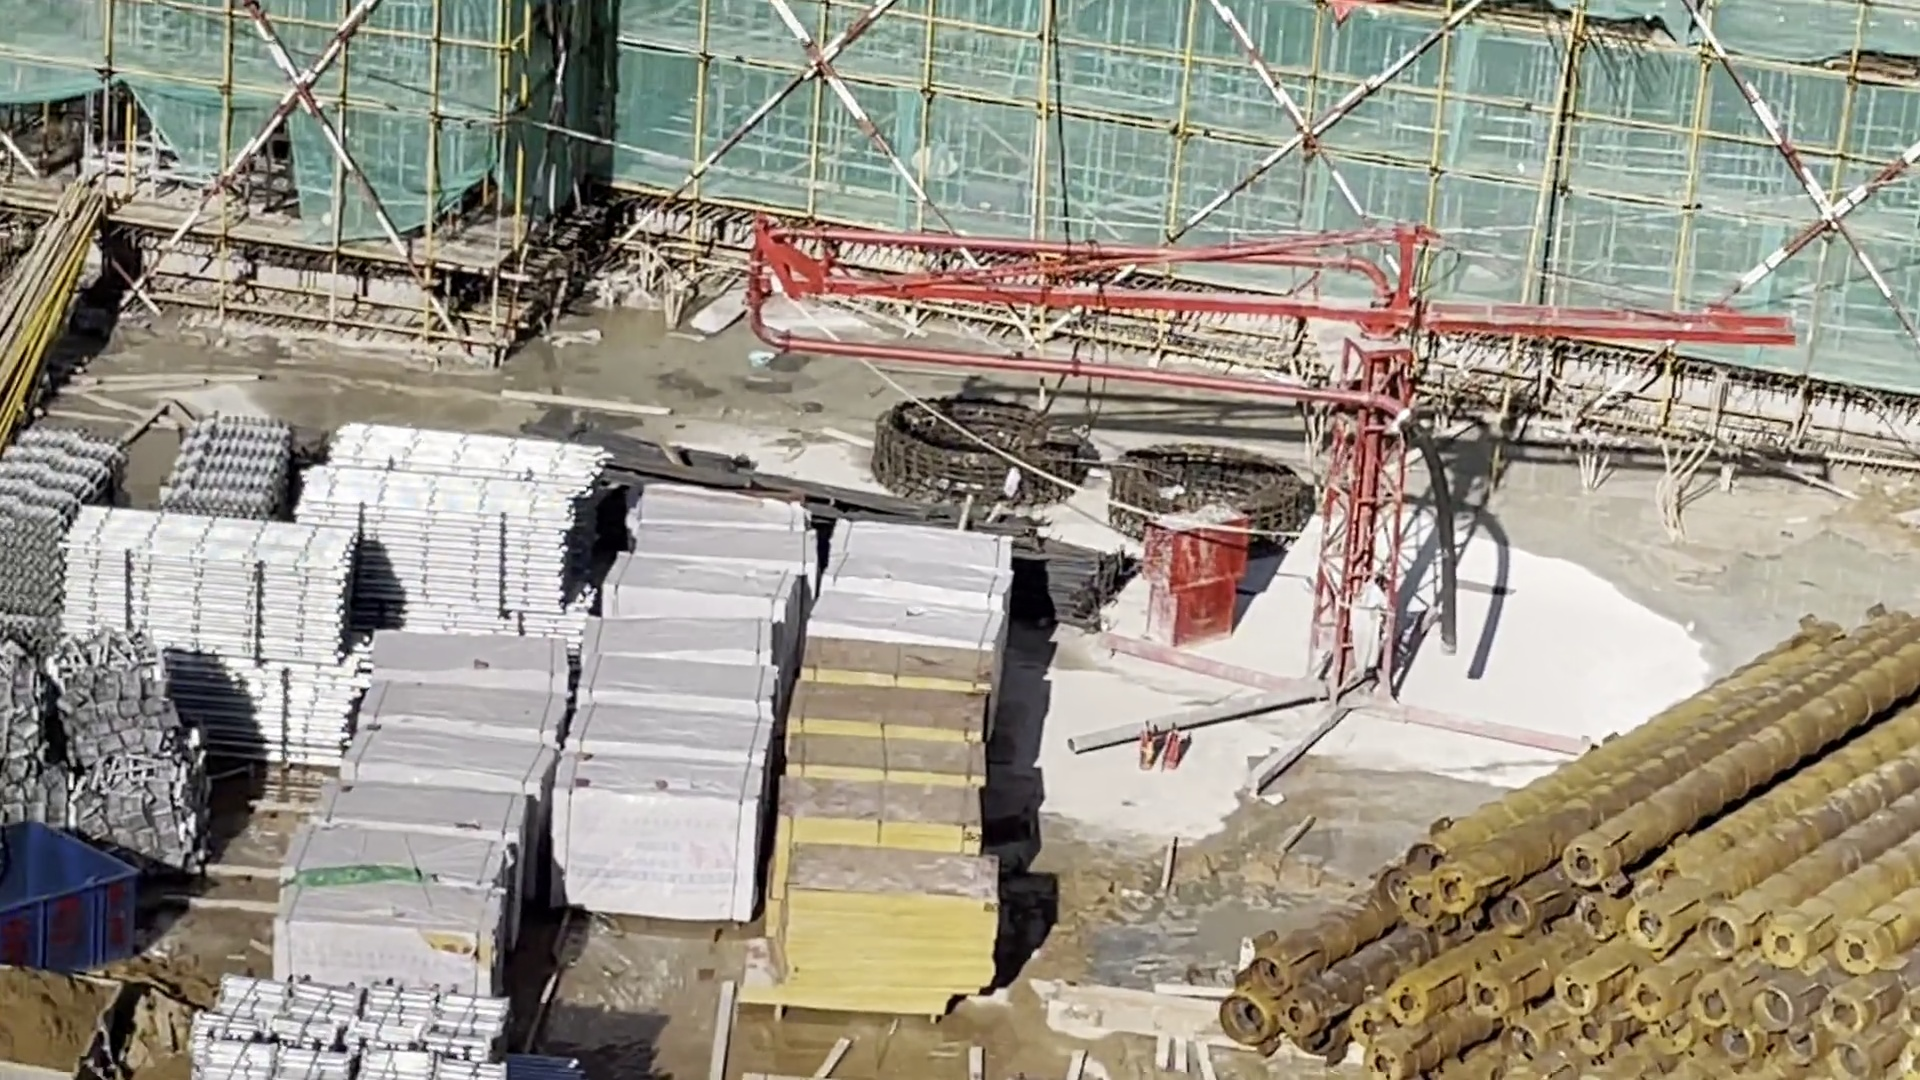board: (783, 645, 989, 1010)
hopper: (3, 820, 136, 978)
rebar: (613, 456, 1125, 615)
scaffold: (61, 514, 348, 761), (311, 422, 589, 645), (189, 981, 513, 1076), (1, 430, 115, 608), (169, 410, 281, 516)
